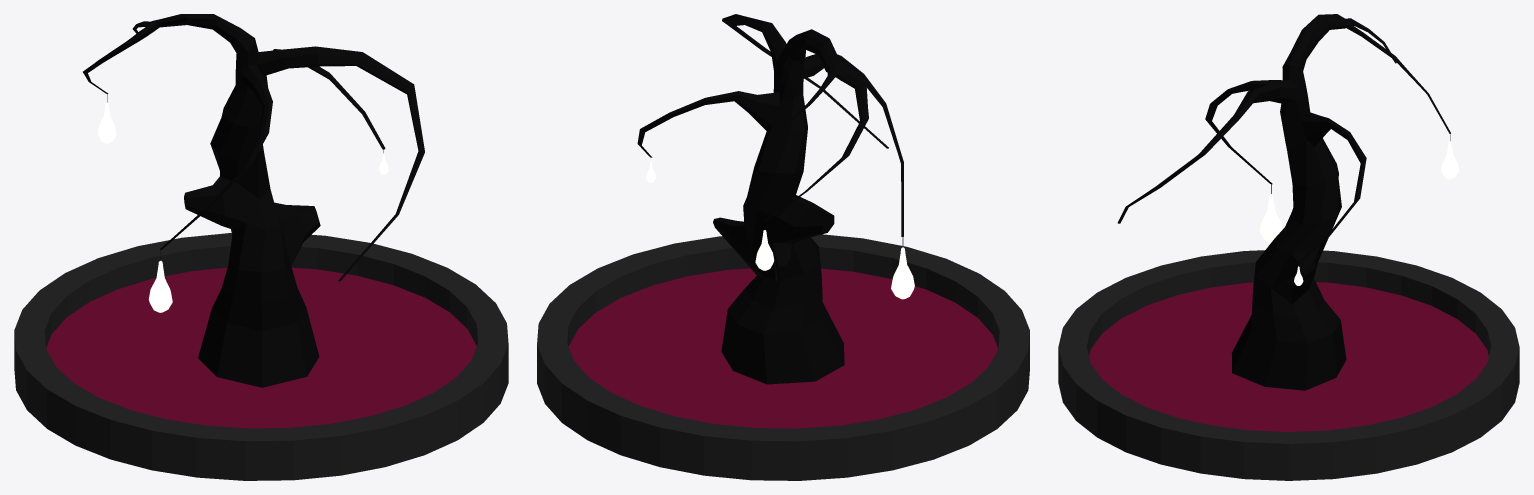
The model's file is large-round-base-with-tree-01.fbx.
3 renders of one model, left to right at view 1: azimuth 30°, elevation 25°; view 2: azimuth 150°, elevation 25°; view 3: azimuth 270°, elevation 25°, orthographic. The views are drawn at different scales.
Parts seen in each view (by area): view 1: Base, Tree, Pod; view 2: Base, Tree, Pod; view 3: Base, Tree, Pod.
Boxes of the visible parts, x1,y1,x2,y2 form: Base: [14, 233, 508, 480]; Tree: [83, 14, 424, 387]; Pod: [148, 250, 172, 312]; Base: [537, 234, 1029, 480]; Tree: [637, 14, 903, 384]; Pod: [891, 237, 914, 299]; Base: [1058, 250, 1519, 480]; Tree: [1117, 14, 1450, 390]; Pod: [1259, 184, 1282, 242].
Bounding box in the file's own units: 600 × 489 × 600.
